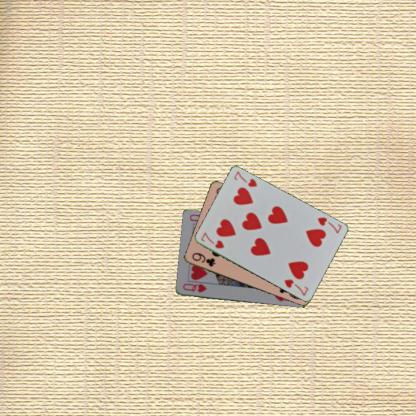7h: (314, 214, 343, 235), (198, 230, 226, 250)
9c: (189, 250, 217, 268)
Qh: (180, 281, 208, 293)
